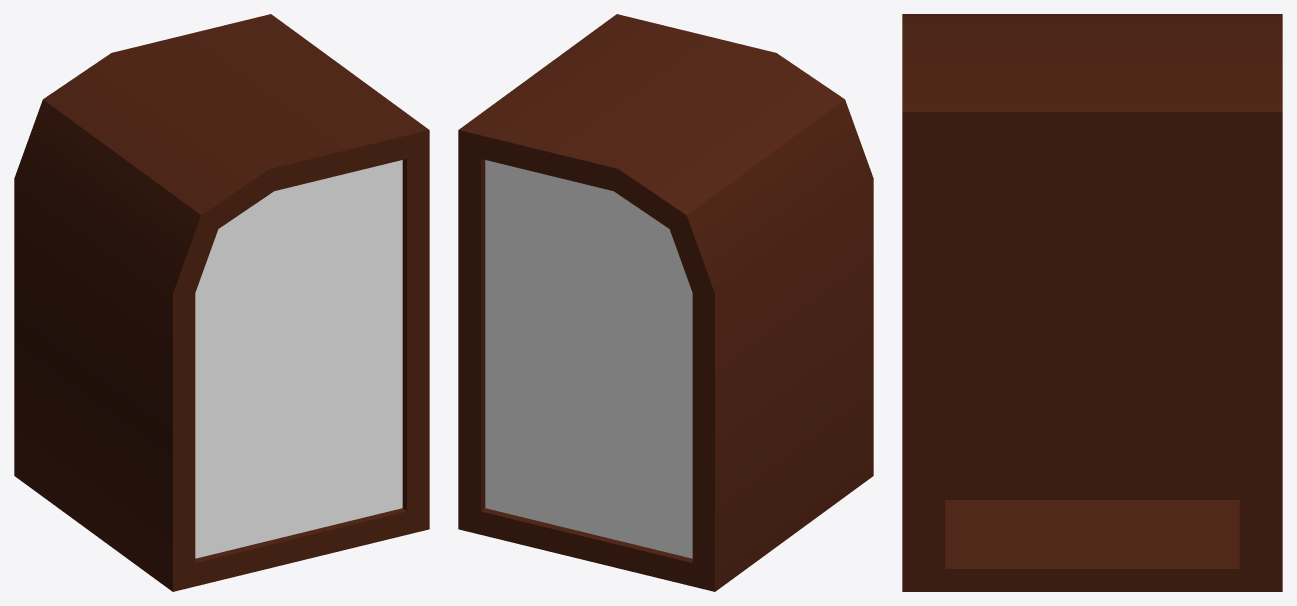
The model's file is AlienBox.fbx.
3 renders of one model, left to right at view 1: azimuth 30°, elevation 25°; view 2: azimuth 150°, elevation 25°; view 3: azimuth 270°, elevation 25°, orthographic. The views are drawn at different scales.
Visible parts, largest first — view 1: Cube_2; view 2: Cube_2; view 3: Cube_2.
Boxes of the visible parts, x1,y1,x2,y2 form: Cube_2: [14, 14, 429, 591]; Cube_2: [458, 14, 873, 591]; Cube_2: [902, 14, 1282, 591].
Bounding box in the file's own units: 76.77 × 114 × 82.08.
